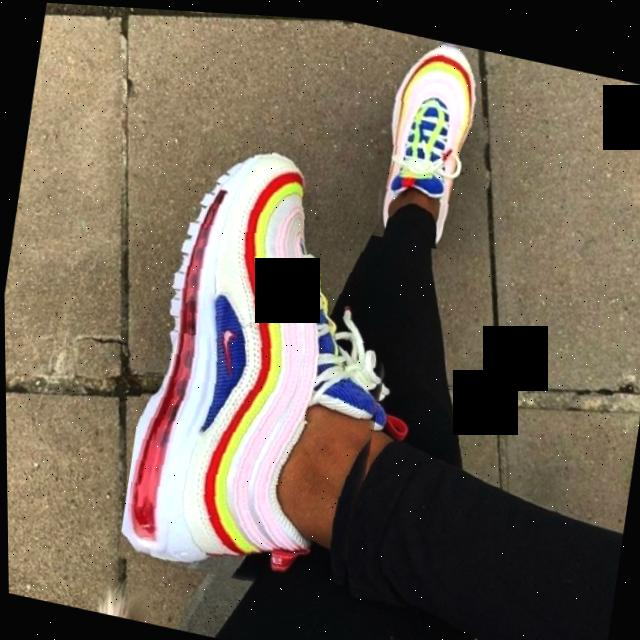shoe: (110, 113, 428, 611), (364, 25, 499, 251)
